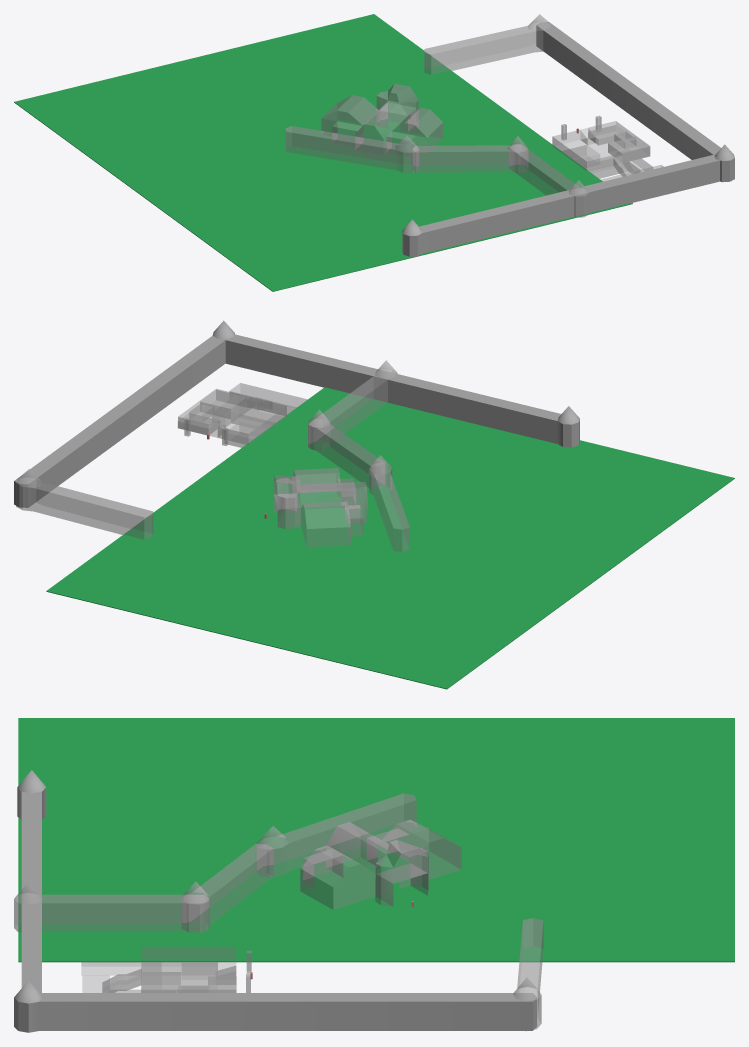
The model's file is ScalingTest3.fbx.
3 views of the same model, one above another, from view 1: azimuth 30°, elevation 25°; view 2: azimuth 150°, elevation 25°; view 3: azimuth 270°, elevation 25° (orthographic). The views are drawn at different scales.
Parts seen in each view (by area): view 1: pCube2, pCylinder1, pCylinder4, pCube20, pCylinder9, pCylinder11, pCylinder6, pCube3, pCylinder5, pCube6, pCube4, pCube12; view 2: pCube2, pCylinder1, pCylinder4, pCube20, pCylinder11, pCylinder5, pCylinder6, pCube3, pCylinder9, pCube8, pCube6, pCube12; view 3: pCube2, pCylinder4, pCube20, pCylinder5, pCylinder9, pCylinder1, pCylinder6, pCube3, pCylinder11, pCube13, pCube6, pCube12 (+1 smaller).
Part boxes in pixels (left/top/right/bottom): pCube2: left=14, top=14, right=632, bottom=291; pCylinder1: left=402, top=155, right=719, bottom=256; pCylinder4: left=536, top=22, right=734, bottom=182; pCube20: left=321, top=84, right=442, bottom=152; pCylinder9: left=285, top=126, right=418, bottom=172; pCylinder11: left=424, top=14, right=550, bottom=74; pCylinder6: left=412, top=136, right=528, bottom=172; pCube3: left=552, top=121, right=650, bottom=171; pCylinder5: left=509, top=144, right=588, bottom=217; pCube6: left=608, top=136, right=649, bottom=161; pCube4: left=588, top=125, right=625, bottom=145; pCube12: left=562, top=145, right=599, bottom=165; pCube2: left=46, top=387, right=734, bottom=689; pCylinder1: left=214, top=334, right=579, bottom=447; pCylinder4: left=14, top=320, right=234, bottom=507; pCube20: left=273, top=468, right=367, bottom=546; pCylinder11: left=16, top=469, right=153, bottom=539; pCylinder5: left=308, top=360, right=397, bottom=450; pCylinder6: left=308, top=409, right=384, bottom=488; pCube3: left=178, top=389, right=286, bottom=444; pCylinder9: left=369, top=455, right=409, bottom=551; pCube8: left=229, top=383, right=307, bottom=415; pCube6: left=200, top=390, right=246, bottom=419; pCube12: left=225, top=422, right=266, bottom=447; pCube2: left=18, top=718, right=734, bottom=962; pCylinder4: left=14, top=980, right=536, bottom=1032; pCube20: left=300, top=820, right=461, bottom=909; pCylinder5: left=14, top=882, right=209, bottom=931; pCylinder9: left=256, top=793, right=416, bottom=877; pCylinder1: left=17, top=770, right=46, bottom=1000; pCylinder6: left=182, top=844, right=273, bottom=932; pCube3: left=141, top=947, right=236, bottom=992; pCylinder11: left=513, top=918, right=543, bottom=1031; pCube13: left=81, top=962, right=181, bottom=975; pCube6: left=141, top=972, right=181, bottom=992; pCube12: left=181, top=962, right=217, bottom=985.
Size of the model in its own units: 234 by 22.67 by 227.
